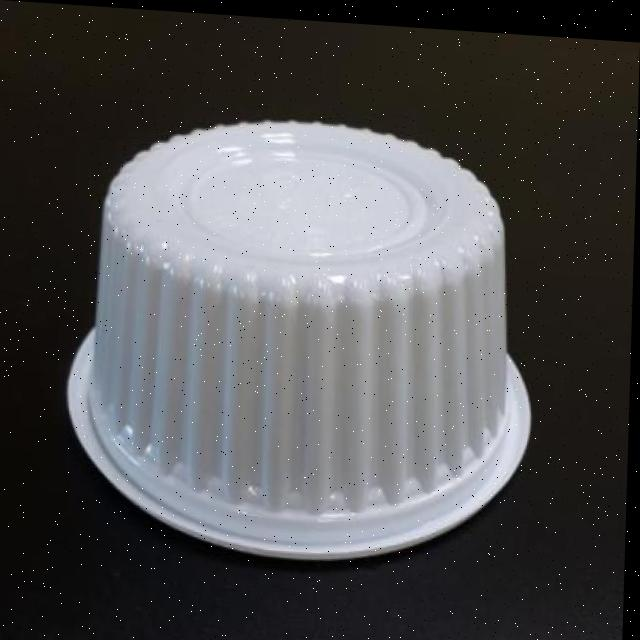disposable: (54, 95, 576, 583)
